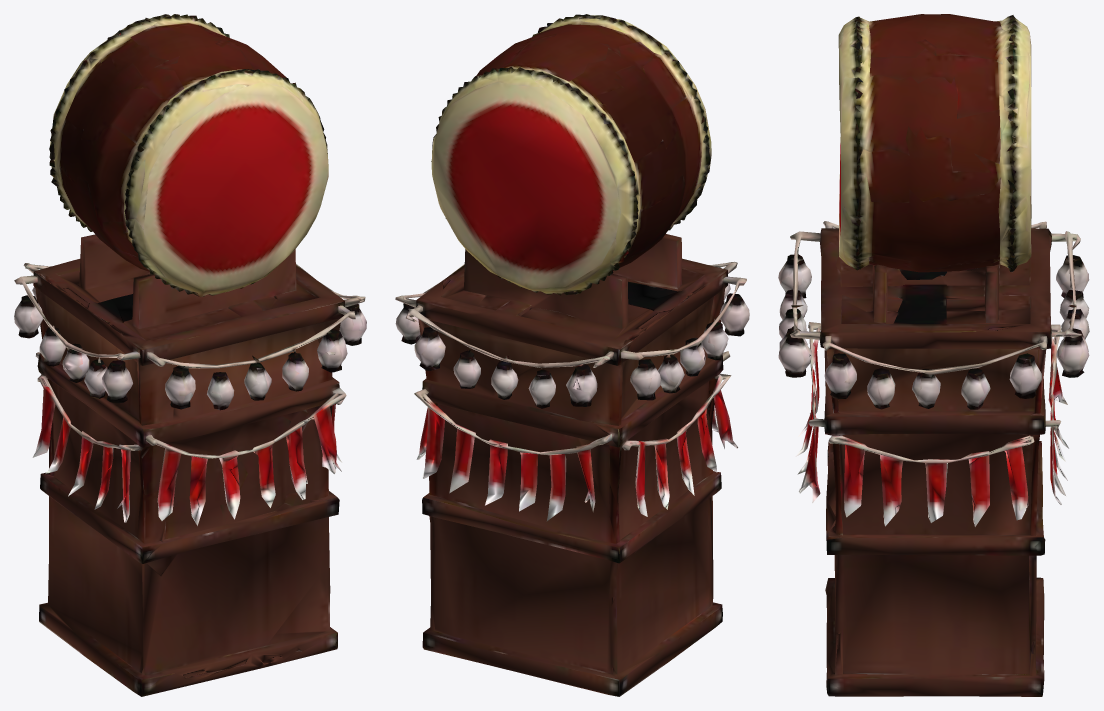
Rendered from prop_hanabi_yagura.glb.
3 views of the same model, side by side, from view 1: azimuth 30°, elevation 25°; view 2: azimuth 150°, elevation 25°; view 3: azimuth 270°, elevation 25° (orthographic). The views are drawn at different scales.
Visible parts, largest first — view 1: geometry_0; view 2: geometry_0; view 3: geometry_0.
Part boxes in pixels (bbox=[...]): geometry_0: bbox=[14, 14, 366, 696]; geometry_0: bbox=[395, 14, 749, 696]; geometry_0: bbox=[778, 14, 1089, 696].
Size of the model in its own units: 0.4612 by 1 by 0.455.
1 material, 1 textured.
